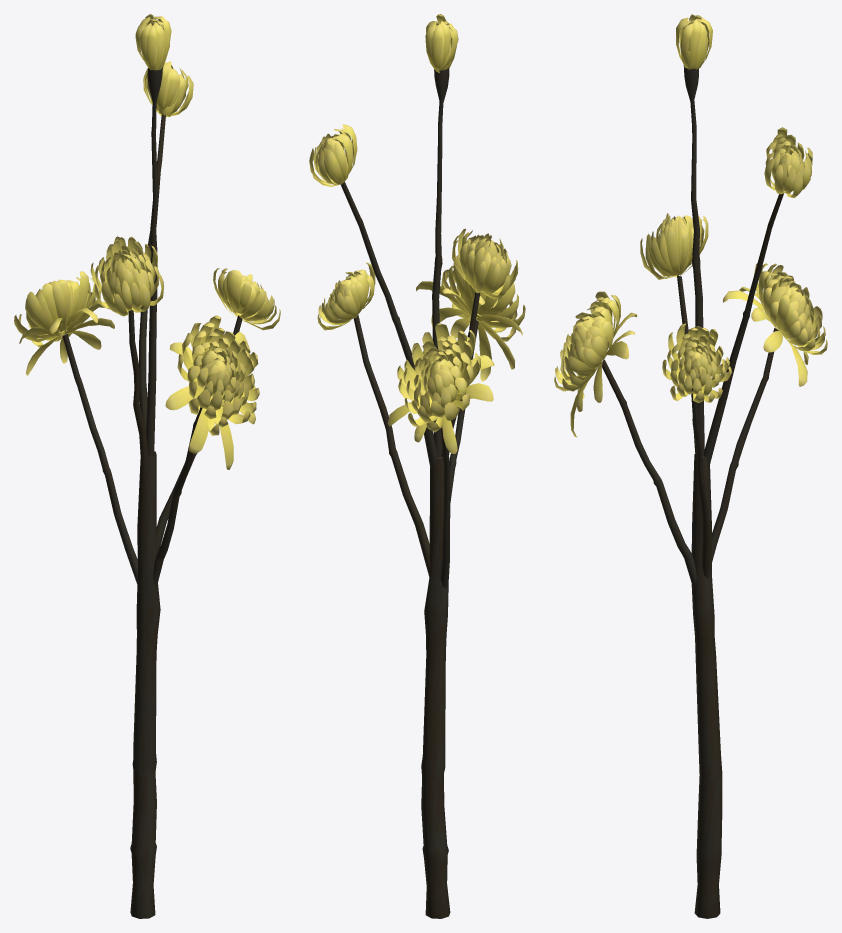
The model's file is chrysanthemum.glb.
3 views of the same model, side by side, from view 1: azimuth 30°, elevation 25°; view 2: azimuth 150°, elevation 25°; view 3: azimuth 270°, elevation 25° (orthographic).
Visible parts, largest first — view 1: Gukhwa_Gukhwa_mat_0; view 2: Gukhwa_Gukhwa_mat_0; view 3: Gukhwa_Gukhwa_mat_0.
Boxes of the visible parts, x1,y1,x2,y2 form: Gukhwa_Gukhwa_mat_0: [14, 14, 280, 918]; Gukhwa_Gukhwa_mat_0: [309, 14, 525, 918]; Gukhwa_Gukhwa_mat_0: [554, 14, 827, 918].
Bounding box in the file's own units: 0.2487 × 1 × 0.2753.
Materials: 1 (1 with a texture image).
